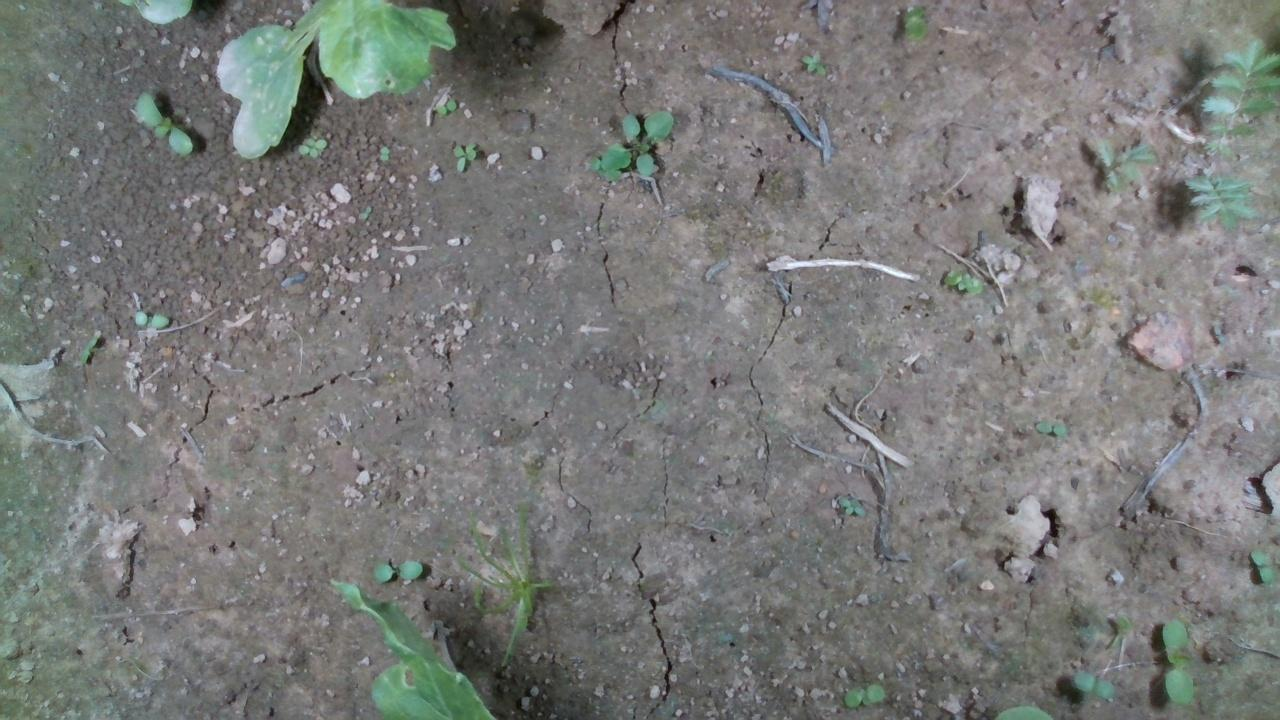weed: (135, 89, 193, 154), (1160, 616, 1195, 705), (369, 558, 423, 585), (940, 268, 985, 295), (1072, 670, 1115, 698), (842, 682, 884, 708), (1248, 547, 1272, 585), (451, 140, 478, 172), (798, 49, 826, 76), (131, 309, 170, 328), (295, 136, 327, 159), (77, 334, 97, 367), (433, 98, 457, 116), (379, 144, 390, 164)
